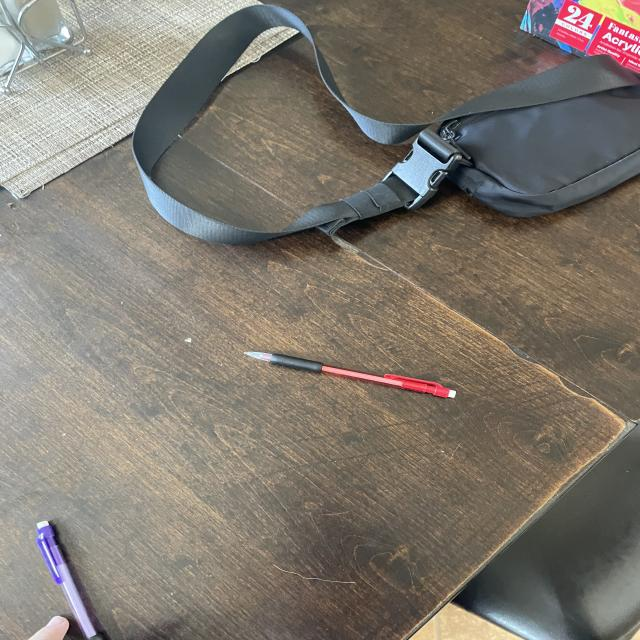mechanical-pencils: (235, 338, 464, 407), (33, 518, 118, 640)
